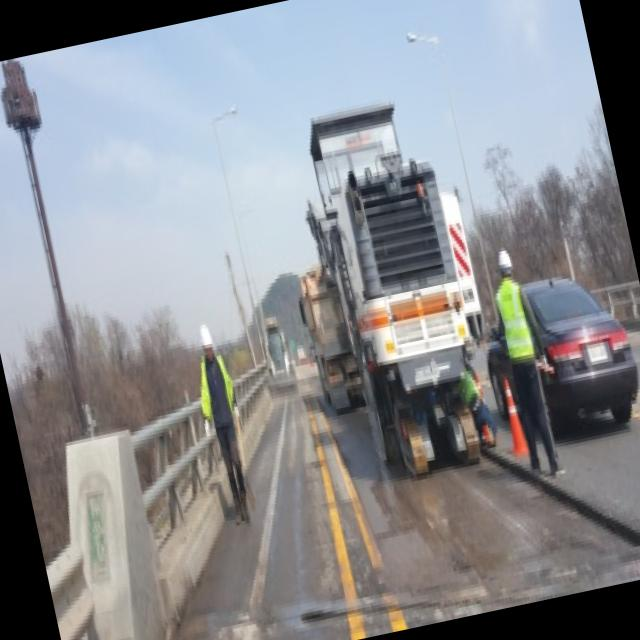asphalt: (173, 393, 640, 640), (559, 386, 640, 520)
